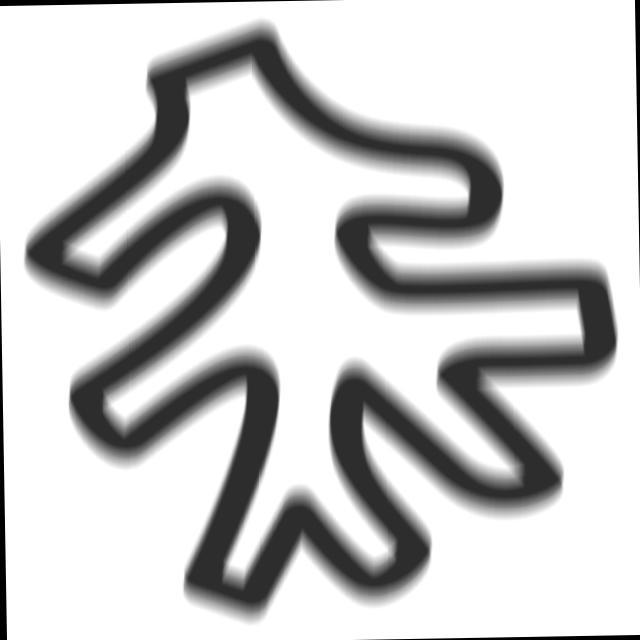coral: (9, 3, 630, 636)
